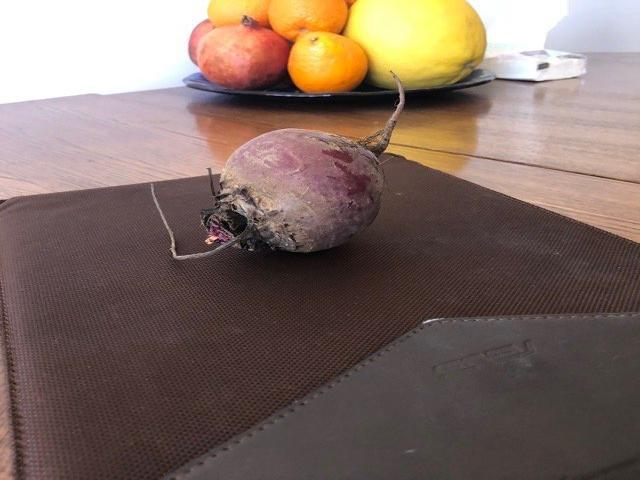beet: (149, 69, 406, 260)
